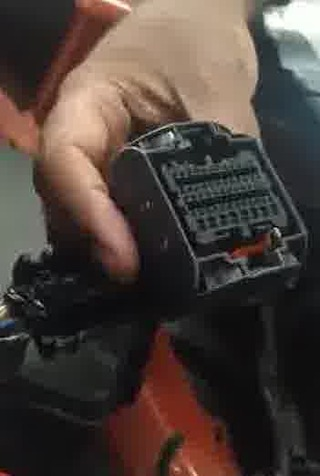connector: (108, 121, 310, 298)
